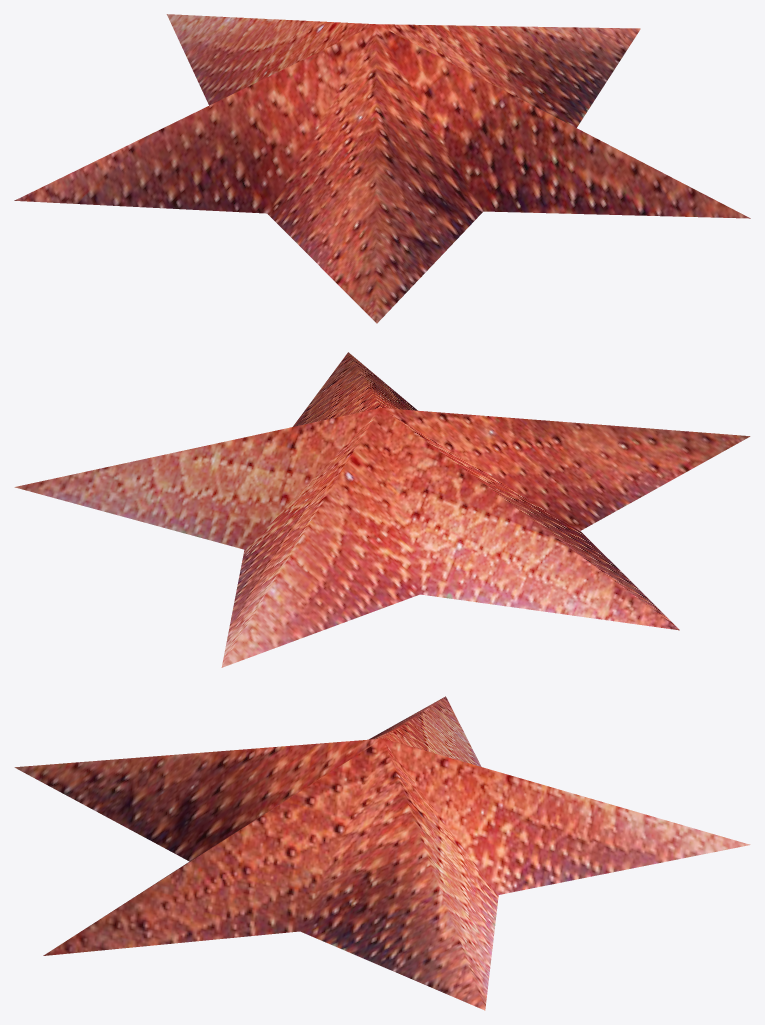
The model's file is Shells_starfish.fbx.
3 renders of one model, top to bottom at view 1: azimuth 30°, elevation 25°; view 2: azimuth 150°, elevation 25°; view 3: azimuth 270°, elevation 25°, orthographic.
Parts seen in each view (by area): view 1: polySurface5; view 2: polySurface5; view 3: polySurface5.
Boxes of the visible parts, x1,y1,x2,y2 form: polySurface5: [14, 14, 750, 323]; polySurface5: [14, 352, 750, 667]; polySurface5: [14, 696, 750, 1010].
Bounding box in the file's own units: 0.3824 × 0.0672 × 0.3788.
